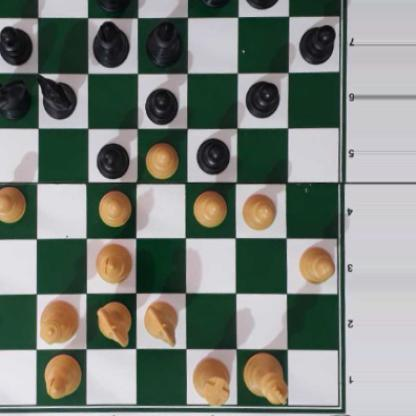black-bishop: (92, 20, 129, 67), (145, 22, 184, 66)
black-king: (244, 0, 287, 12)
black-knight: (35, 74, 76, 118), (0, 79, 29, 118)
black-pawn: (298, 23, 335, 66), (144, 83, 180, 124), (245, 78, 280, 118), (196, 135, 230, 175), (97, 138, 130, 178), (0, 23, 29, 65)
black-queen: (92, 0, 133, 12)
black-rook: (194, 0, 237, 9)
white-bishop: (43, 353, 80, 400), (97, 241, 132, 283)
white-king: (242, 351, 290, 408)
white-knight: (143, 299, 181, 346), (96, 302, 132, 345)
white-pawn: (296, 244, 335, 286), (242, 188, 277, 231), (144, 139, 180, 177), (192, 188, 227, 227), (98, 188, 131, 227), (0, 185, 26, 222)
white-queen: (40, 296, 78, 347)
white-rook: (192, 358, 232, 406)
